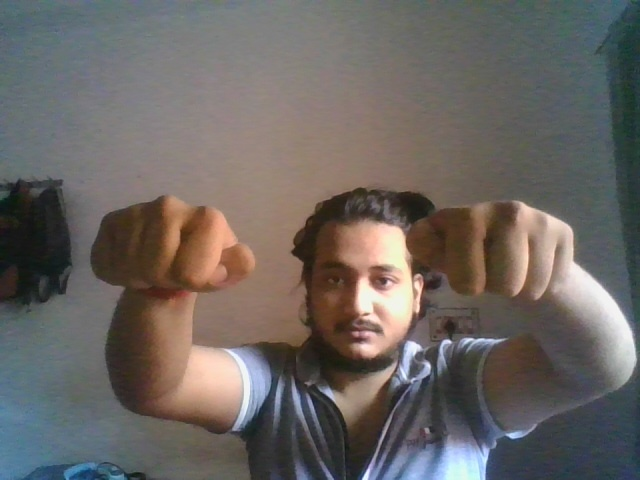Close: (407, 198, 576, 303), (89, 193, 256, 294)
